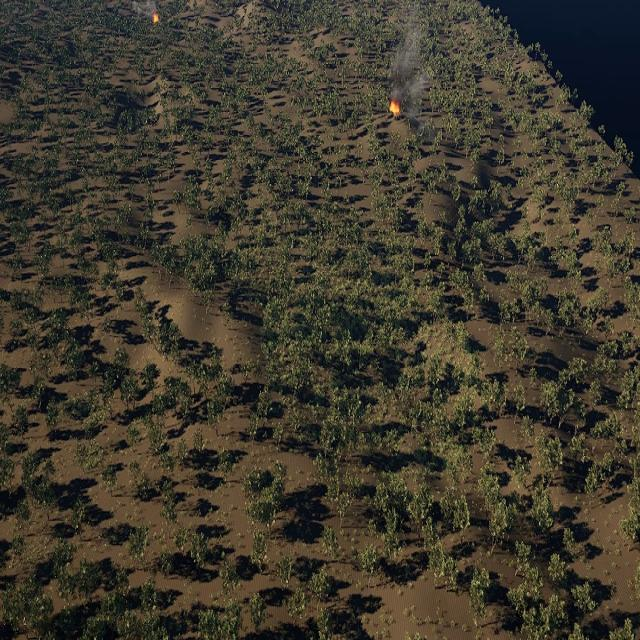fire: (390, 101, 400, 115), (152, 13, 158, 22)
smoke: (393, 3, 441, 134), (131, 0, 158, 19)
